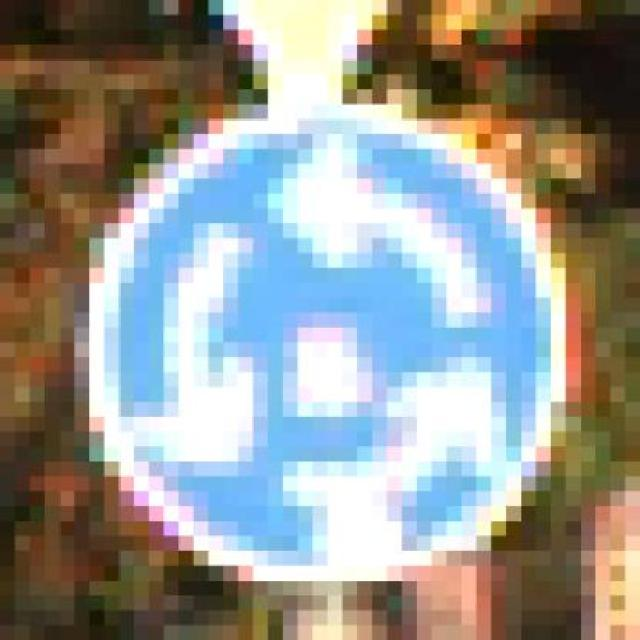Round-About: (74, 90, 580, 596)
